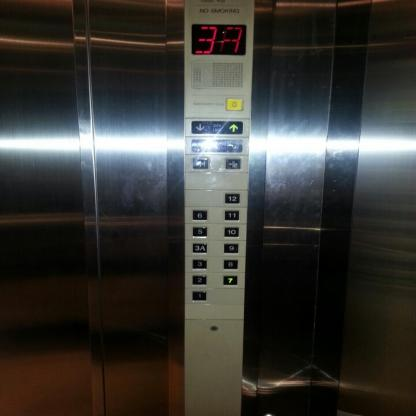1: (191, 290, 207, 301)
10: (223, 226, 239, 237)
11: (223, 209, 240, 221)
12: (224, 192, 240, 204)
2: (191, 274, 207, 285)
3: (192, 258, 207, 269)
3A: (192, 242, 208, 253)
5: (192, 226, 208, 237)
6: (191, 208, 208, 221)
7: (222, 274, 238, 285)
8: (222, 258, 238, 269)
9: (223, 242, 239, 254)
alarm: (226, 97, 244, 111)
close: (224, 158, 242, 170)
led: (188, 21, 247, 58)
open: (191, 156, 210, 169)
